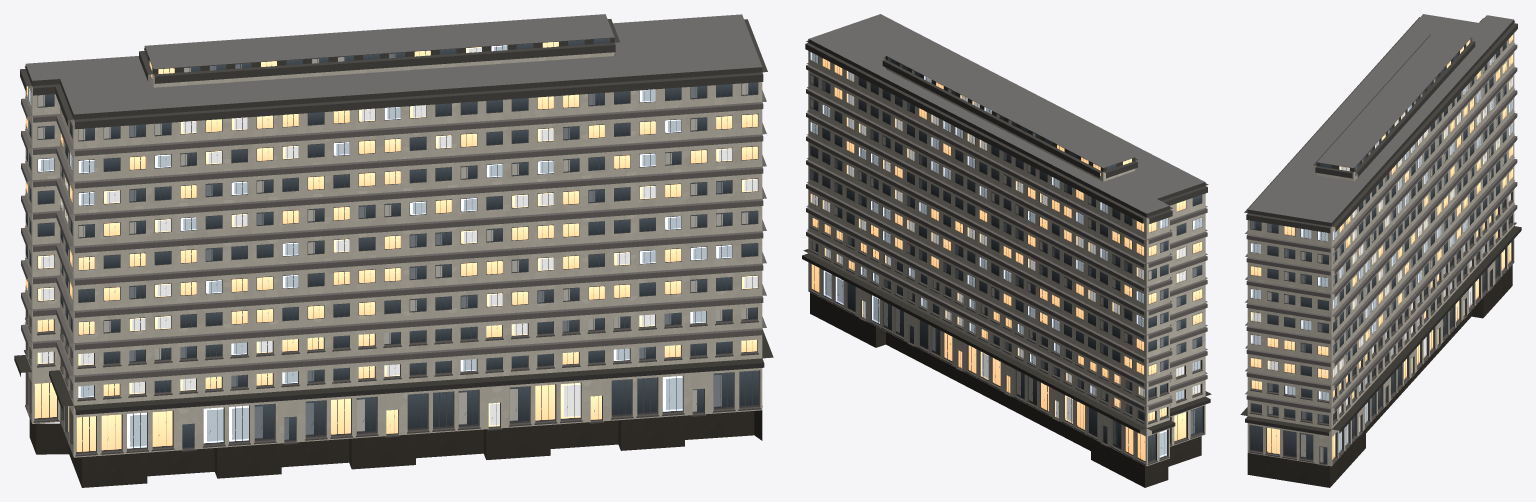
The model's file is altst_riegel.glb.
The picture shows the model from 3 angles, left to right: view 1: azimuth 30°, elevation 25°; view 2: azimuth 150°, elevation 25°; view 3: azimuth 270°, elevation 25°; orthographic projection. The views are drawn at different scales.
Parts seen in each view (by area): view 1: altst_riegel; view 2: altst_riegel; view 3: altst_riegel.
Part boxes in pixels (box(x1,y1,x2,y2)): altst_riegel: box(14, 14, 773, 487); altst_riegel: box(802, 14, 1211, 487); altst_riegel: box(1240, 14, 1521, 487).
Size of the model in its own units: 63.3 by 38.15 by 34.96.
3 materials, 3 textured.
